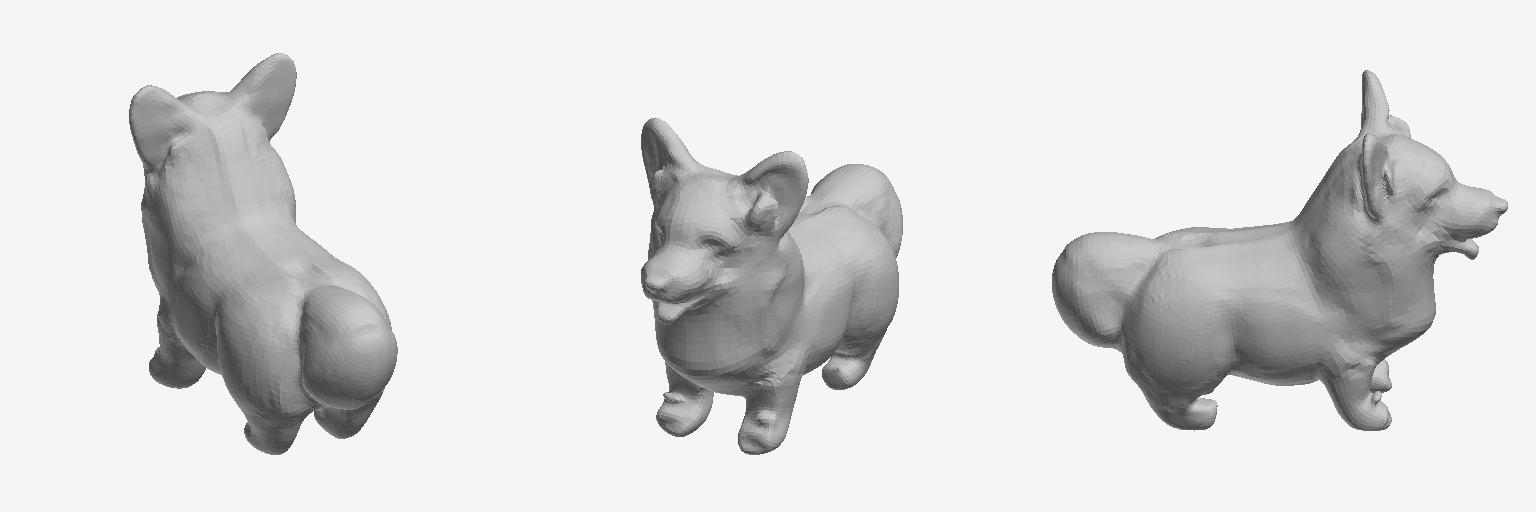
Rendered from corgi.obj.
3 renders of one model, left to right at view 1: azimuth 30°, elevation 25°; view 2: azimuth 150°, elevation 25°; view 3: azimuth 270°, elevation 25°, orthographic.
Parts seen in each view (by area): view 1: mesh; view 2: mesh; view 3: mesh.
Part boxes in pixels (left/top/right/bottom): mesh: left=129, top=53, right=397, bottom=454; mesh: left=641, top=118, right=902, bottom=454; mesh: left=1052, top=70, right=1507, bottom=430.
Size of the model in its own units: 0.4214 by 0.7436 by 0.9985.